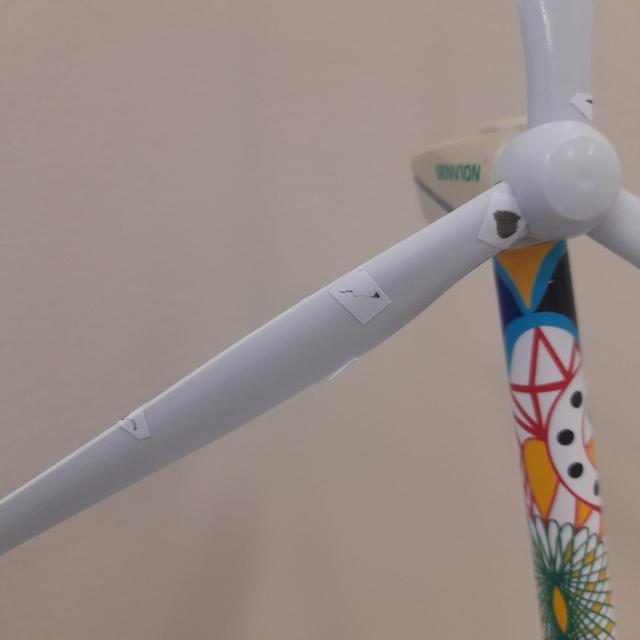dano: (488, 204, 526, 244), (336, 280, 388, 307), (114, 409, 144, 438), (585, 95, 596, 110)
